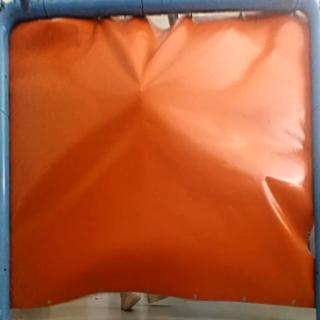Hit-hRxx: (134, 86, 149, 102)
